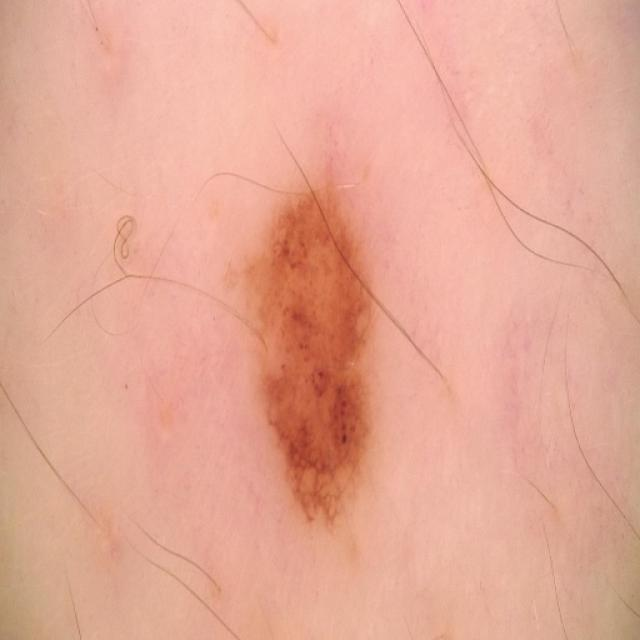Melanoma: (252, 196, 370, 522)
